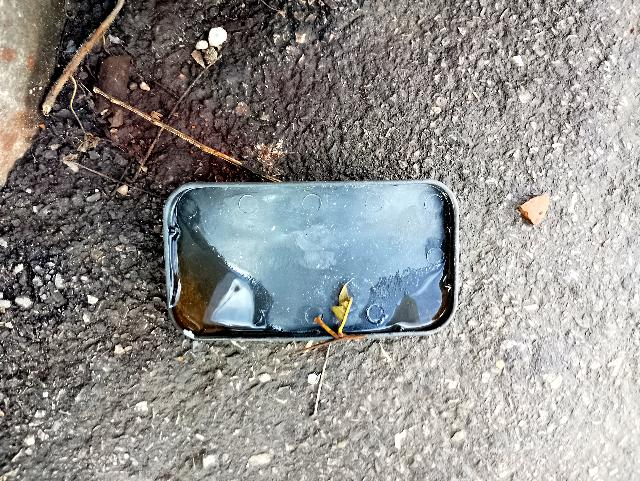hardplastic: (164, 175, 460, 345)
